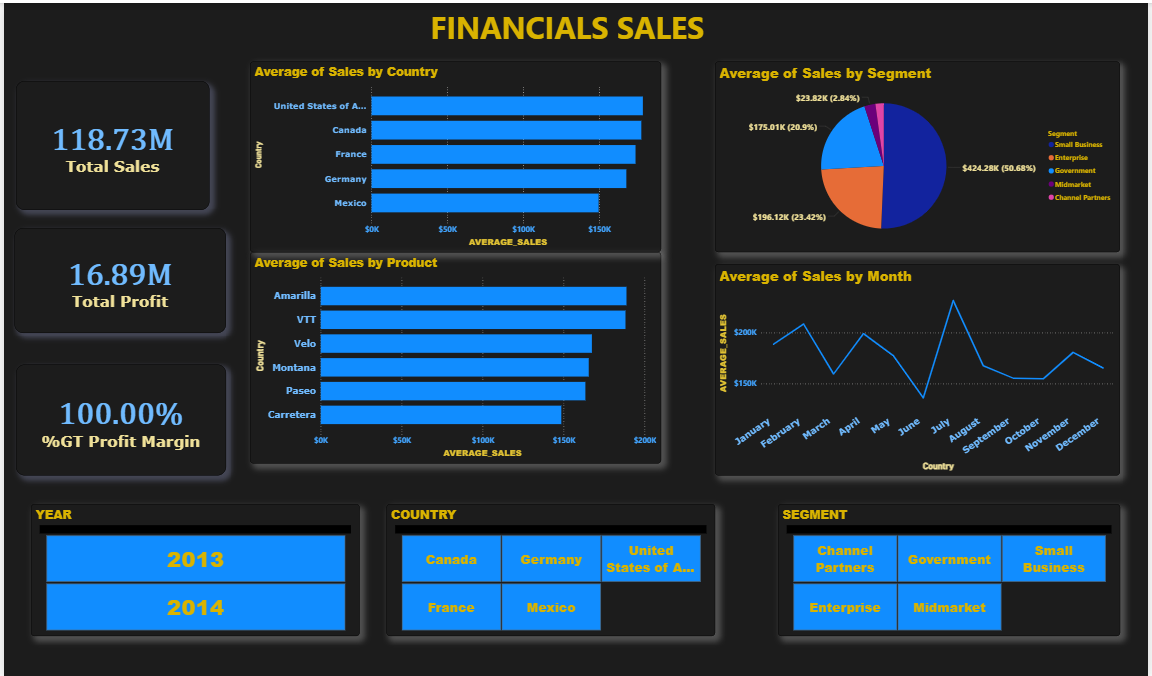

This screenshot's page, from the dashboard's own definition file:
{"tool":"powerbi","page":{"name":"Page 1","canvas":[2200,1300],"ordinal":0},"visuals":[{"type":"card","fields":{"Values":["financials.Total Sales"]},"box":[23.1,150,372.1,248.1],"z":0},{"type":"card","fields":{"Values":["financials.Total Profit"]},"box":[20.2,432.7,406.7,201.9],"z":1000},{"type":"card","fields":{"Values":["financials.Profit Margin"]},"box":[23.1,695.2,403.9,213.5],"z":2000},{"type":"barChart","fields":{"Y":["Avg(financials. Sales)"],"Category":["financials.Country"]},"box":[473.1,112.5,790.4,366.4],"z":3000},{"type":"barChart","fields":{"Y":["Avg(financials. Sales)"],"Category":["financials.Product"]},"box":[473.1,478.9,790.4,406.7],"z":4000},{"type":"lineChart","fields":{"Y":["Avg(financials. Sales)"],"Category":["financials.Date.Variation.Date Hierarchy.Month"]},"box":[1367.3,501.9,778.9,406.7],"z":5000},{"type":"pieChart","fields":{"Y":["Avg(financials. Sales)"],"Category":["financials.Segment"]},"box":[1367.3,112.5,778.9,366.4],"z":6000},{"type":"slicer","title":"YEAR","fields":{"Values":["financials.Date.Variation.Date Hierarchy.Year"]},"box":[51.9,963.5,631.7,253.9],"z":7000},{"type":"slicer","title":"COUNTRY","fields":{"Values":["financials.Country"]},"box":[735.6,963.5,631.7,253.9],"z":8000},{"type":"slicer","title":"SEGMENT","fields":{"Values":["financials.Segment"]},"box":[1488.5,963.5,657.7,253.9],"z":9000},{"type":"textbox","box":[571.2,0,1024.1,112.5],"z":9001}]}

Visuals, with their boxes in screenshot pixels (x1, y1, x2, y2), scaled from the page's 2200x1300 canvas onto the 1152x676 screenshot:
card - financials.Total Sales: crop(12, 78, 207, 207)
card - financials.Total Profit: crop(11, 225, 224, 330)
card - financials.Profit Margin: crop(12, 362, 224, 473)
barChart - Avg(financials. Sales) x financials.Country: crop(248, 58, 662, 249)
barChart - Avg(financials. Sales) x financials.Product: crop(248, 249, 662, 461)
lineChart - Avg(financials. Sales) x financials.Date.Variation.Date Hierarchy.Month: crop(716, 261, 1124, 472)
pieChart - Avg(financials. Sales) x financials.Segment: crop(716, 58, 1124, 249)
"YEAR" slicer: crop(27, 501, 358, 633)
"COUNTRY" slicer: crop(385, 501, 716, 633)
"SEGMENT" slicer: crop(779, 501, 1124, 633)
textbox: crop(299, 0, 835, 58)
